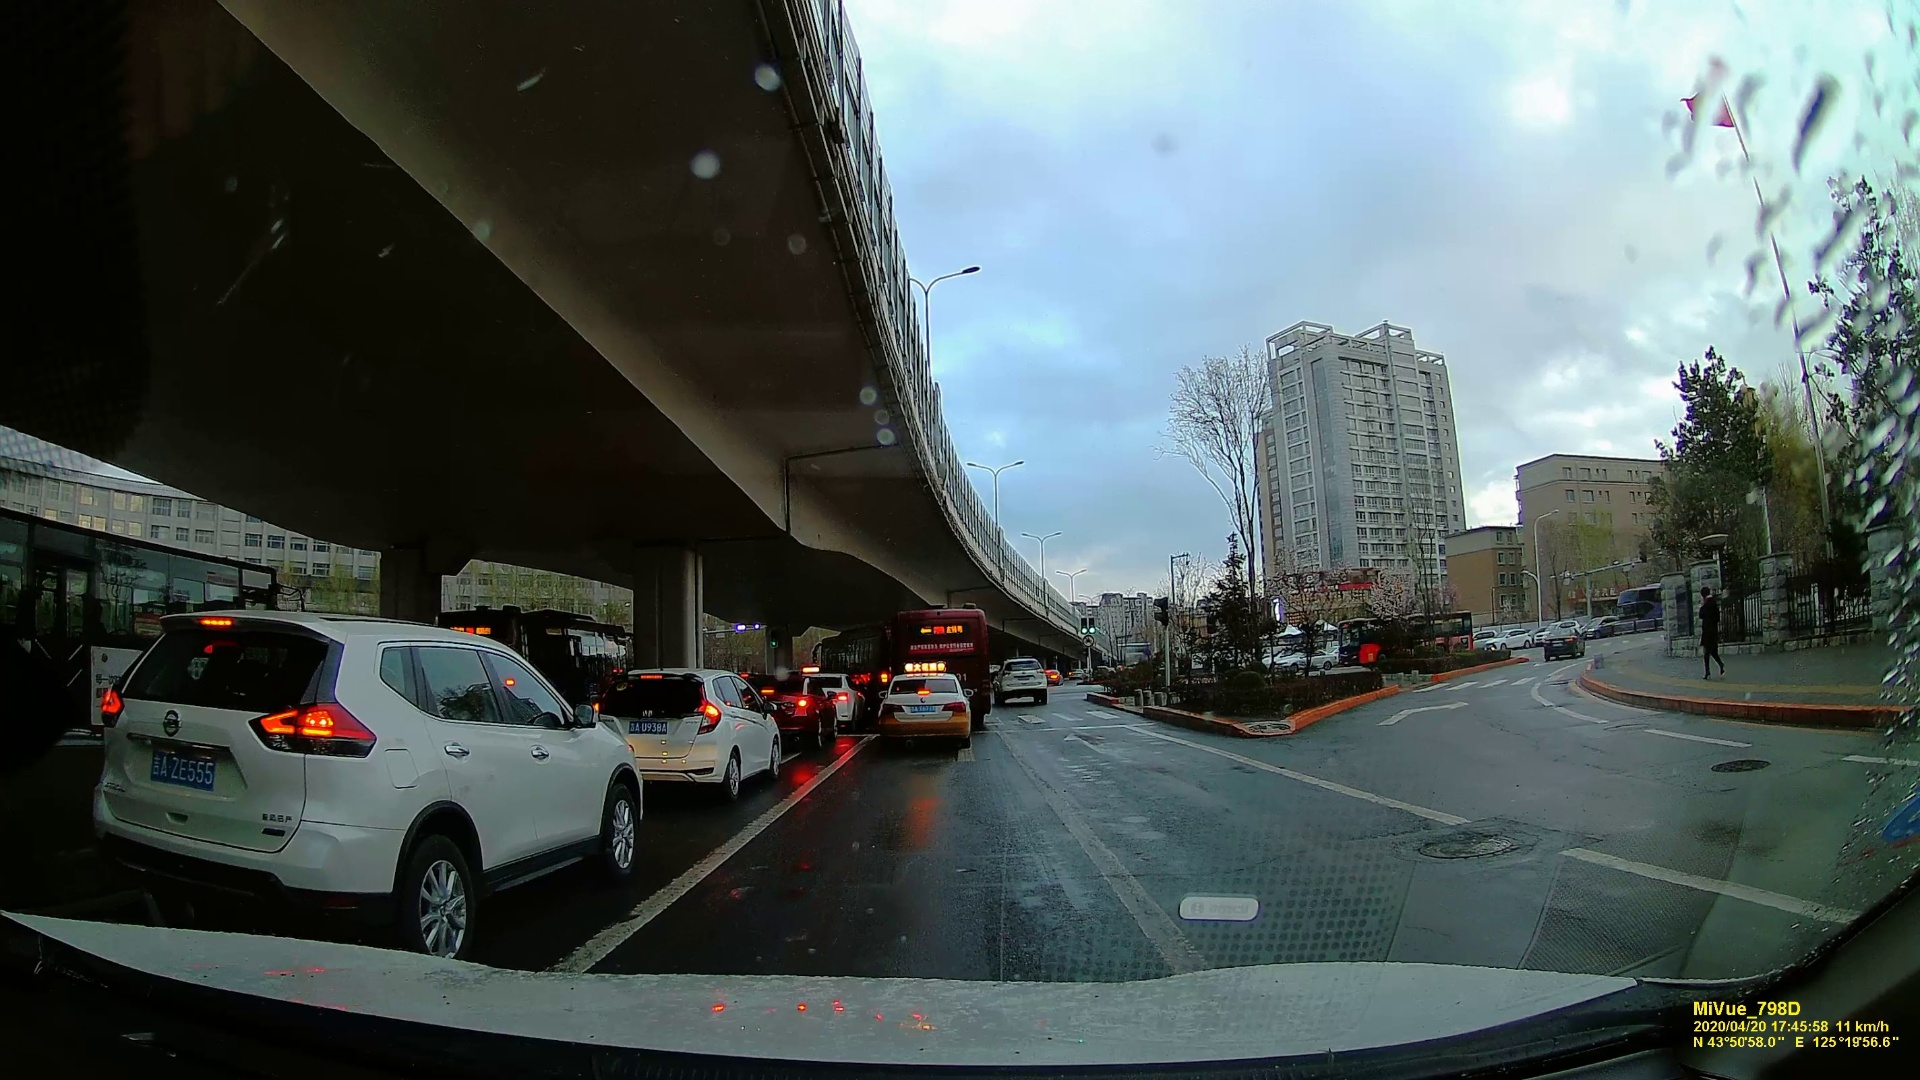bus: (1, 512, 275, 768), (890, 607, 982, 704), (1333, 614, 1477, 666), (1616, 588, 1661, 624)
person: (1694, 586, 1722, 686)
traffic_sign: (1151, 597, 1170, 628), (1080, 616, 1087, 636), (1088, 616, 1095, 635)
vehicle: (79, 600, 641, 941), (592, 666, 786, 796), (875, 673, 970, 746), (992, 658, 1050, 704), (1542, 627, 1583, 659)
